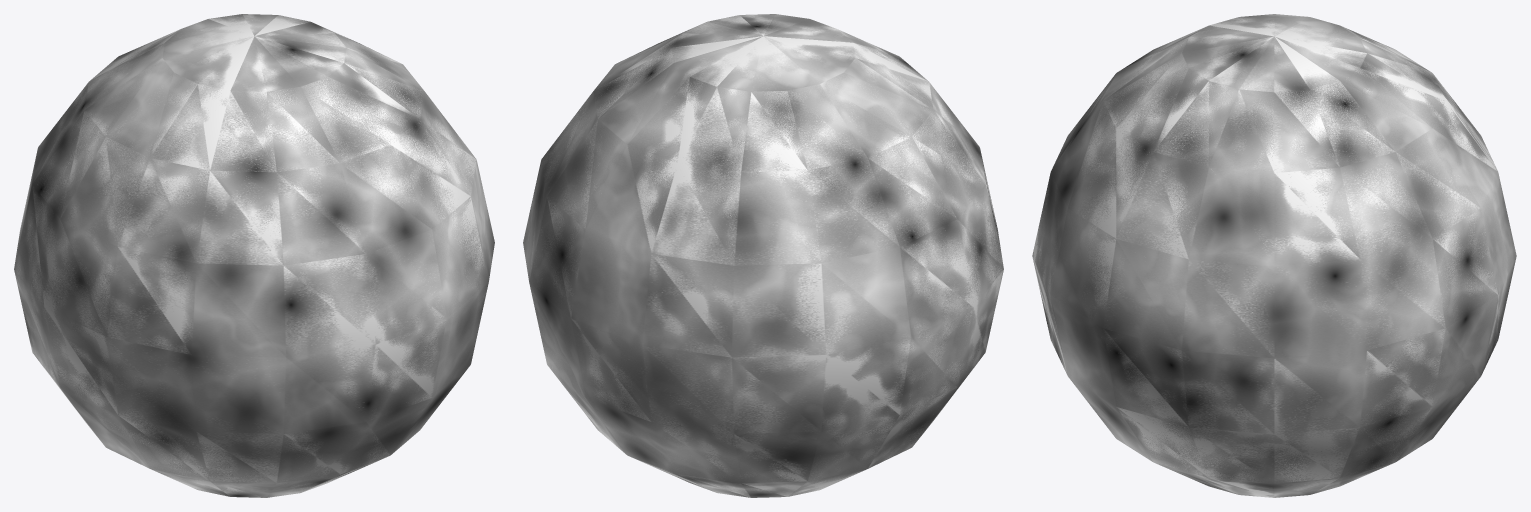
File: meteor.glb
3 views of the same model, side by side, from view 1: azimuth 30°, elevation 25°; view 2: azimuth 150°, elevation 25°; view 3: azimuth 270°, elevation 25° (orthographic).
Visible parts, largest first — view 1: Sphere; view 2: Sphere; view 3: Sphere.
Boxes of the visible parts, box(x1,y1,x2,y2) form: Sphere: box(14, 14, 494, 497); Sphere: box(523, 14, 1003, 497); Sphere: box(1032, 14, 1516, 497).
Size of the model in its own units: 2 by 2 by 2.
1 material, 1 textured.
